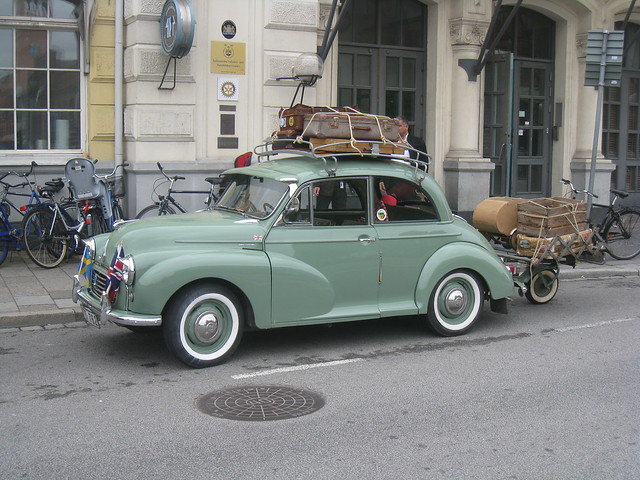car: (72, 157, 514, 367)
